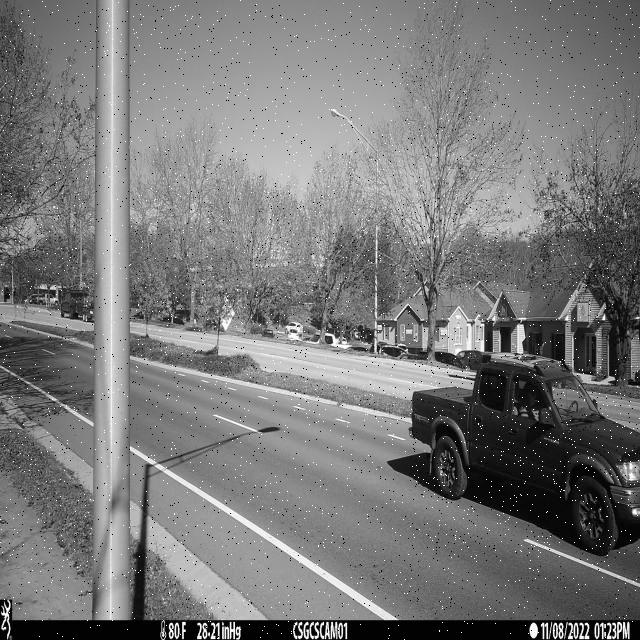Pickup: (410, 353, 640, 557)
